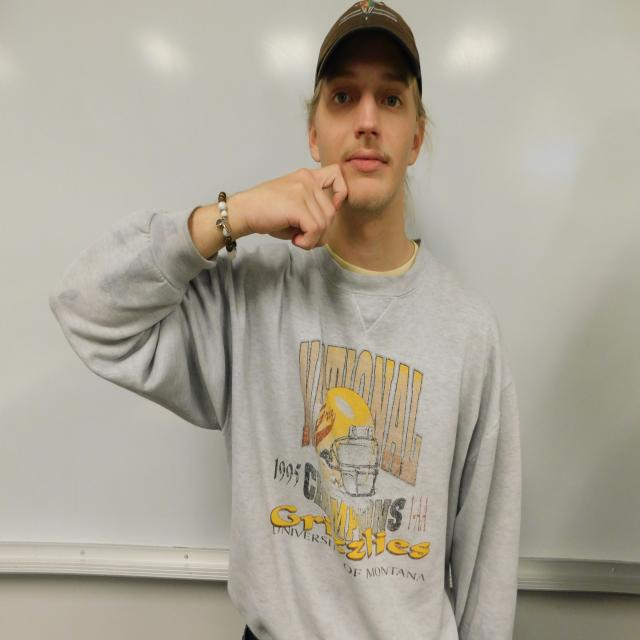apple: (250, 164, 348, 251)
